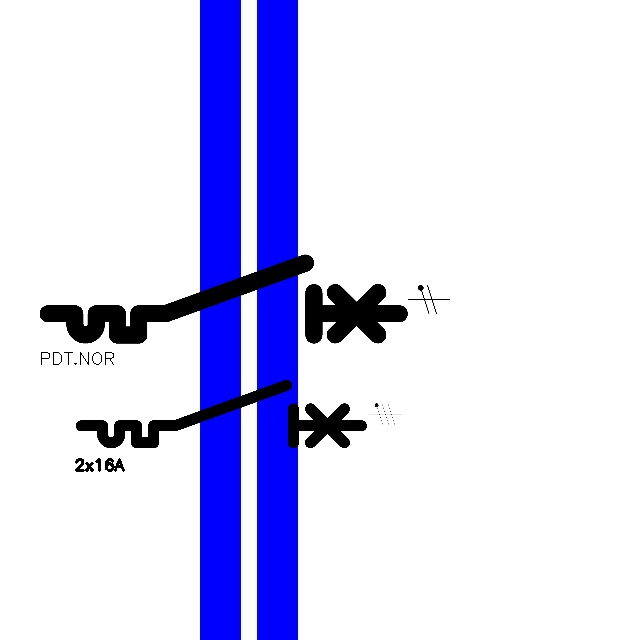interruptor_termomagnetico: (39, 254, 408, 344), (74, 378, 368, 450)
